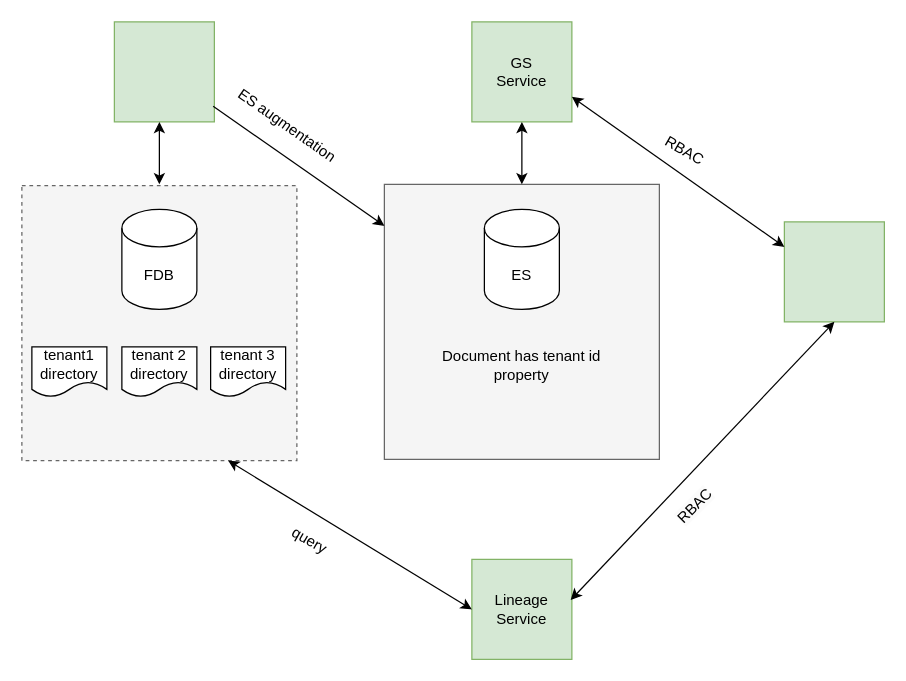
Image size: 906x681. Some labels were removed from this diagram. Each missing label, with the centre of its shape:
"Ingestion Service" goes at [163,71].
"User & Role Service" goes at [833,271].
